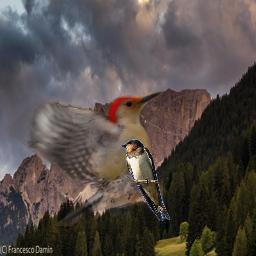Swallow: (120, 139, 170, 221)
Woodpecker: (7, 88, 163, 226)
